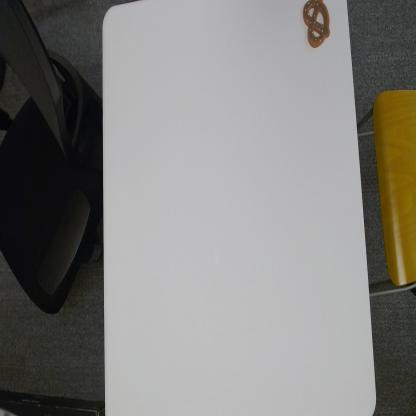Pretzel: (300, 0, 333, 51)
